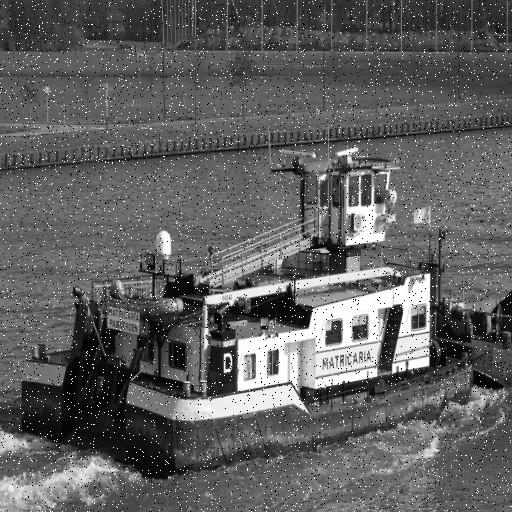tugboat: (21, 145, 477, 483)
